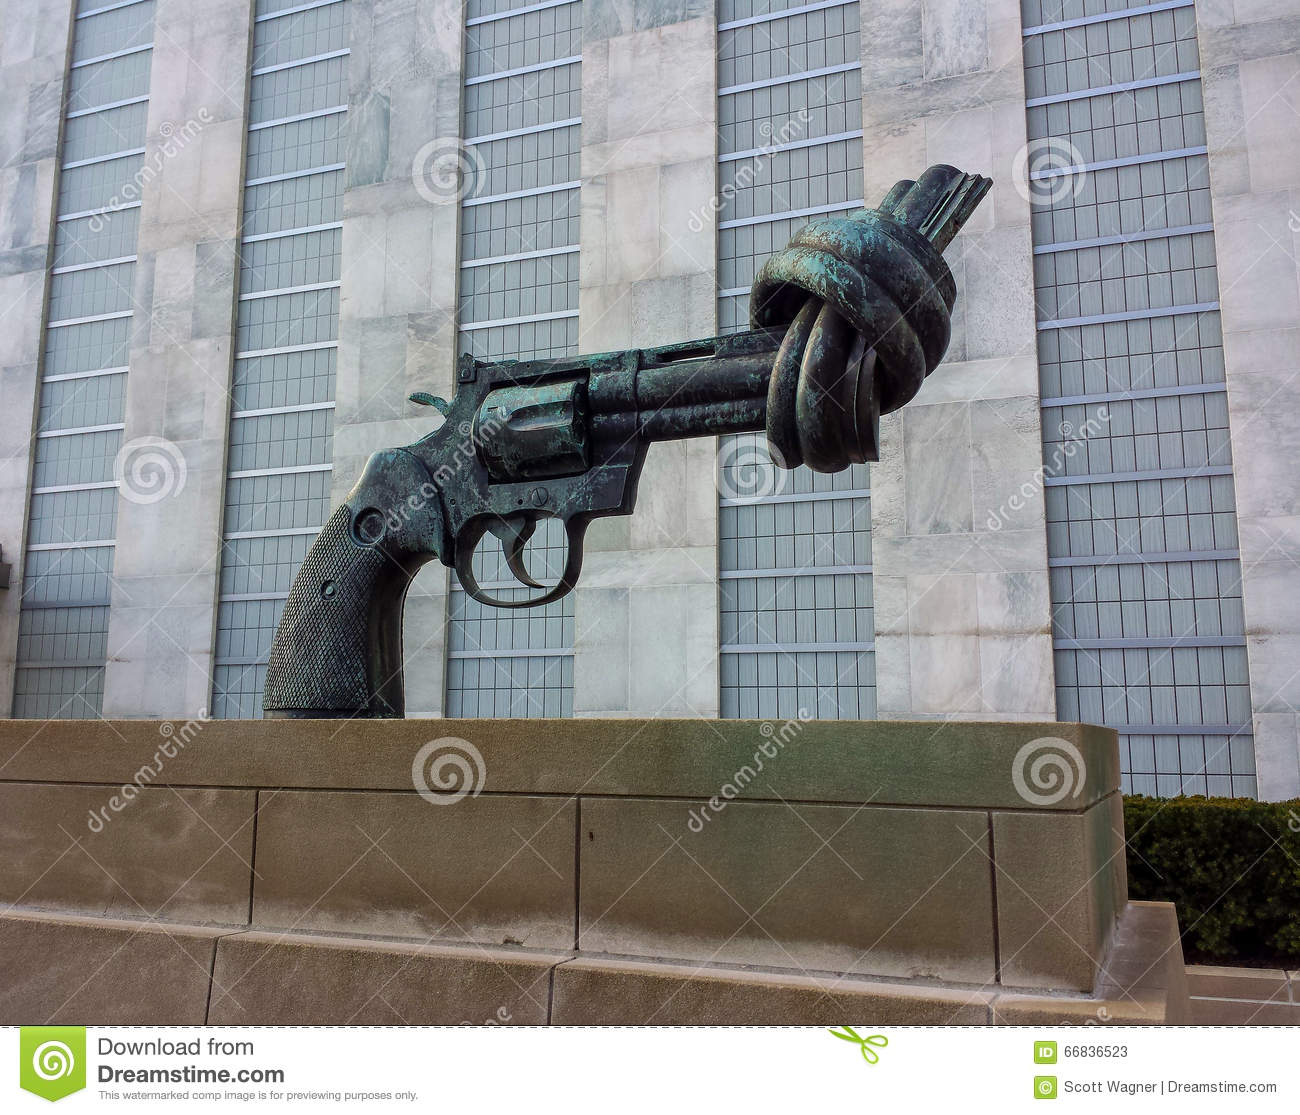Arma Falsa: (256, 166, 1013, 727)
